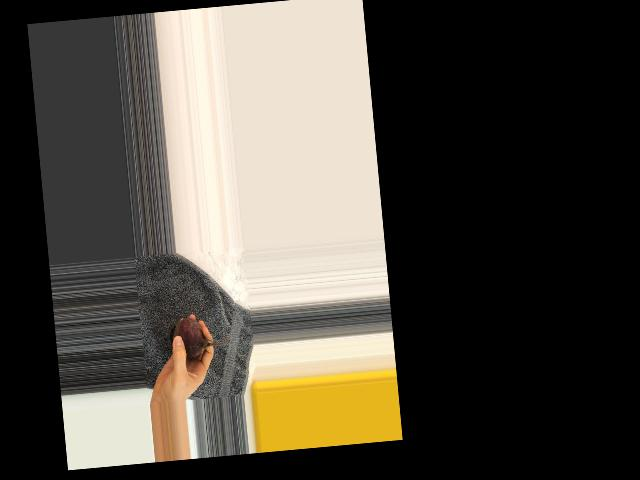beet: (167, 313, 232, 360)
